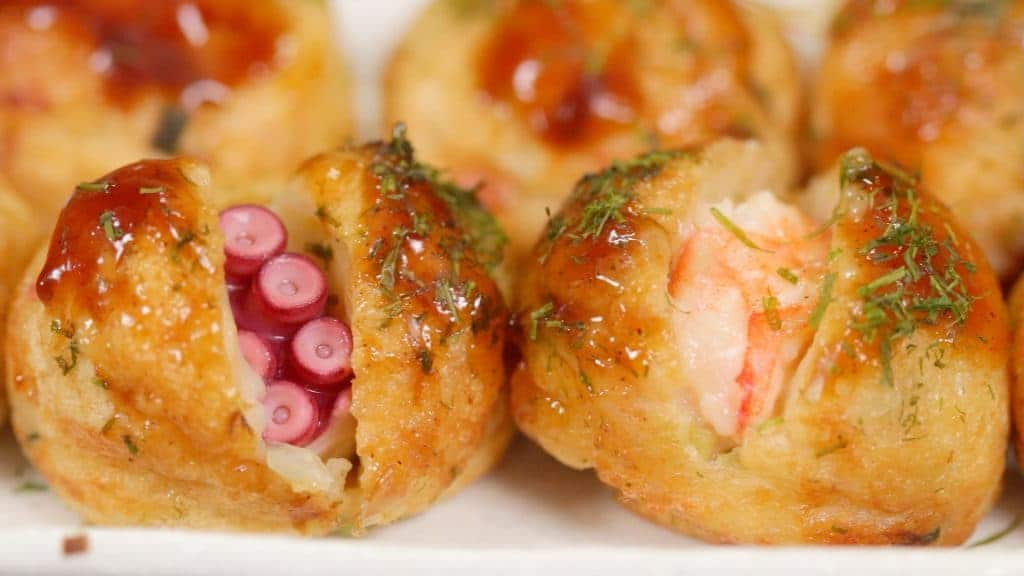takoyaki: (1, 3, 1024, 576)
